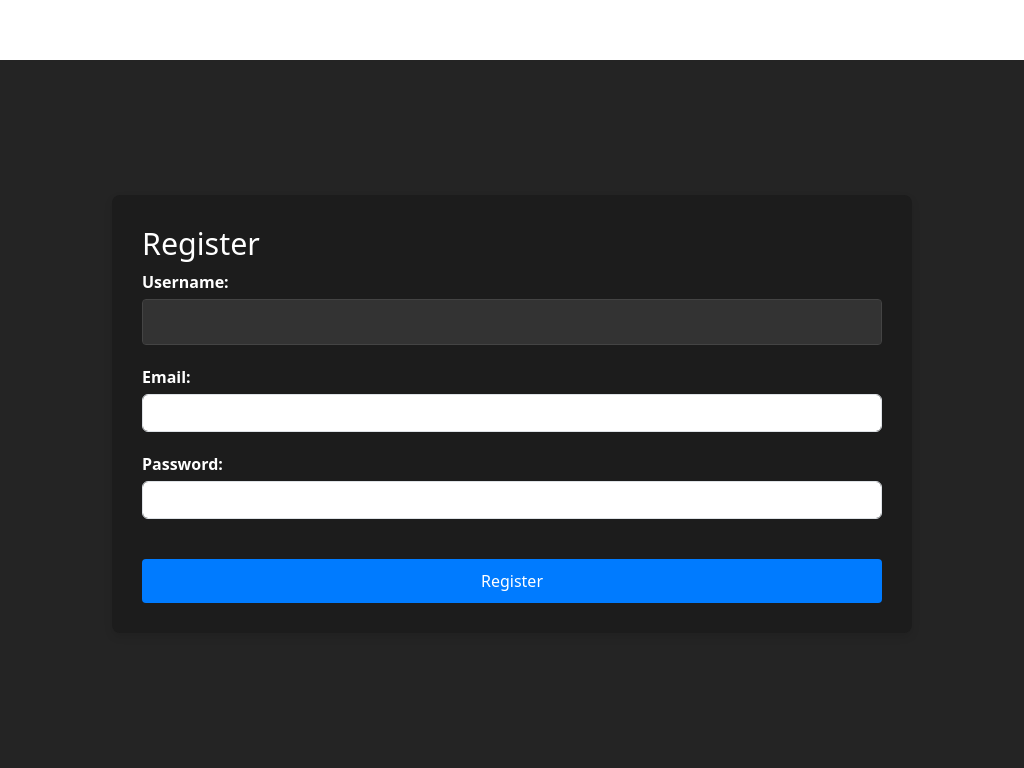
Register Component › should display an error message on failed registration
In the field labelled "Username:": [512, 322] box [142,299,882,345], type "testuser"
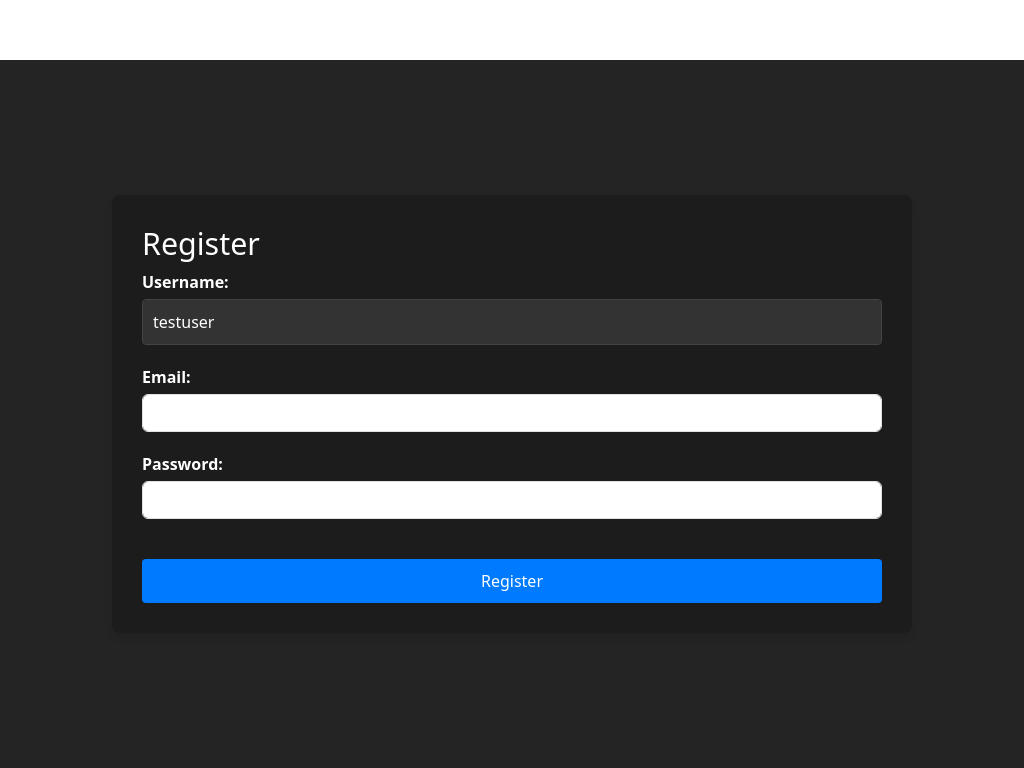
In the field labelled "Email:": [512, 413] box [142,394,882,432], type "testuser@example.com"
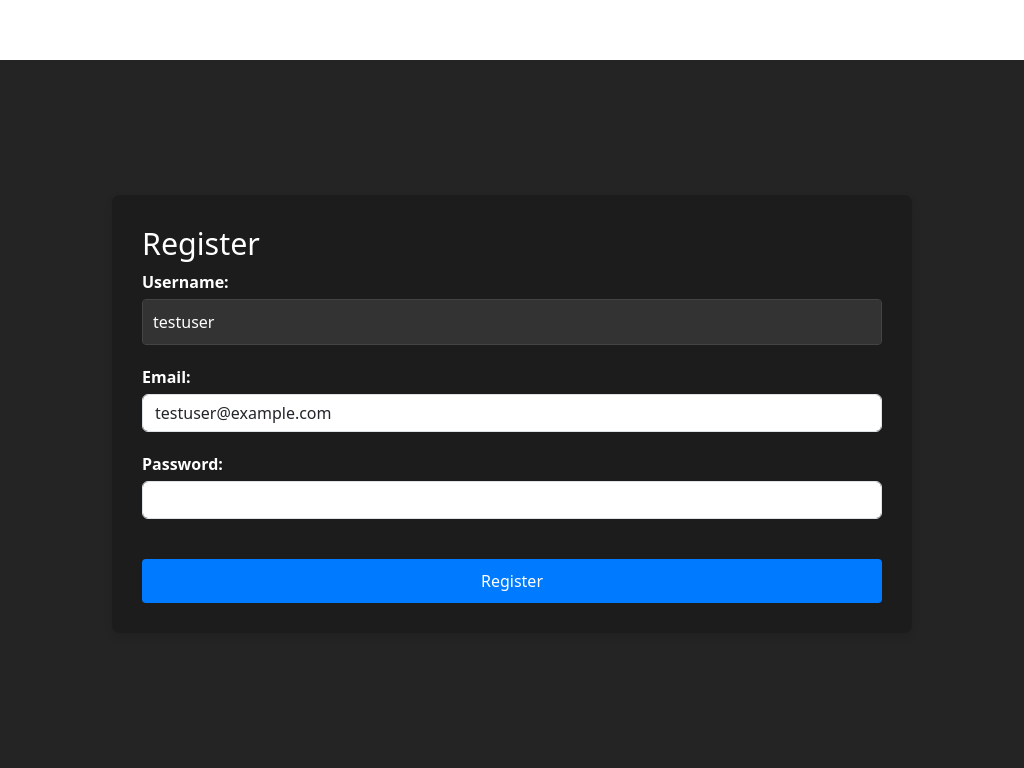
In the password field labelled "Password:": [512, 500] box [142,481,882,519], type "password"
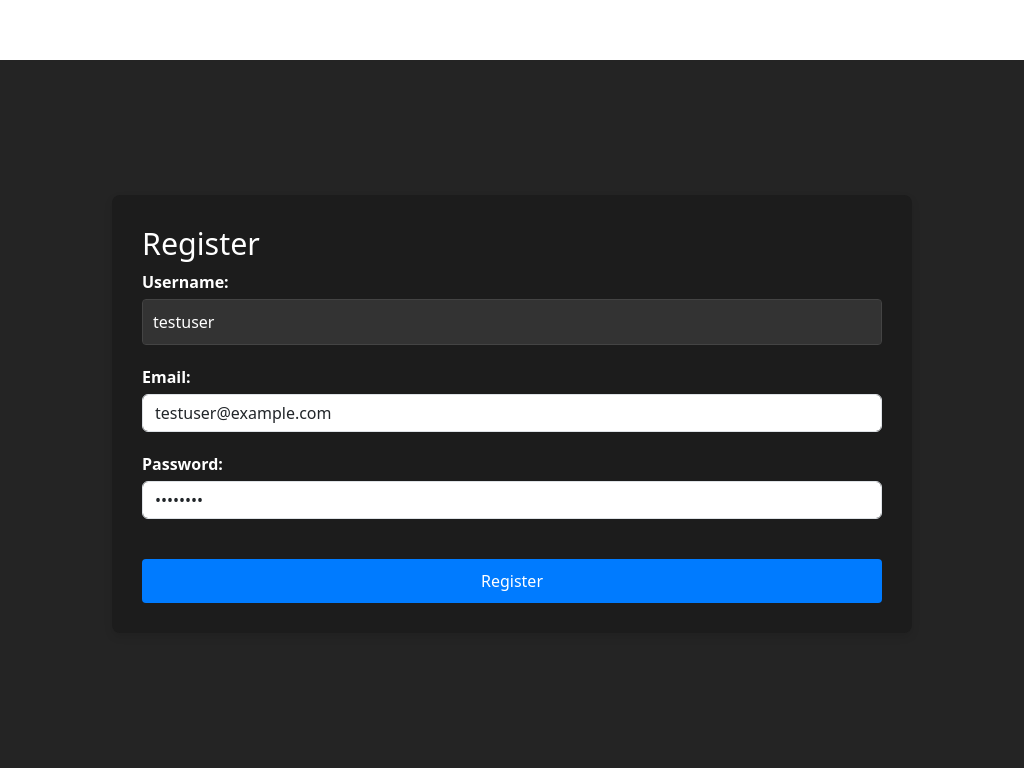
Click the button "Register": [512, 581] box [142,559,882,603]
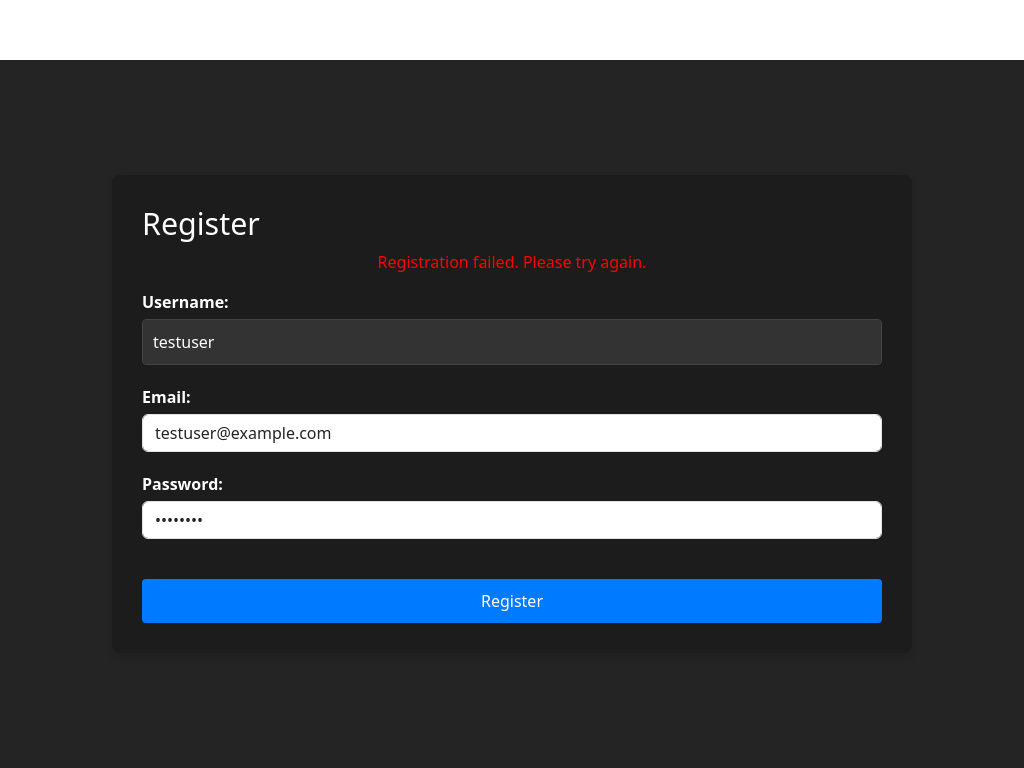
Result: the text "Registration failed. Please try again." is shown at [378,251,646,273]
